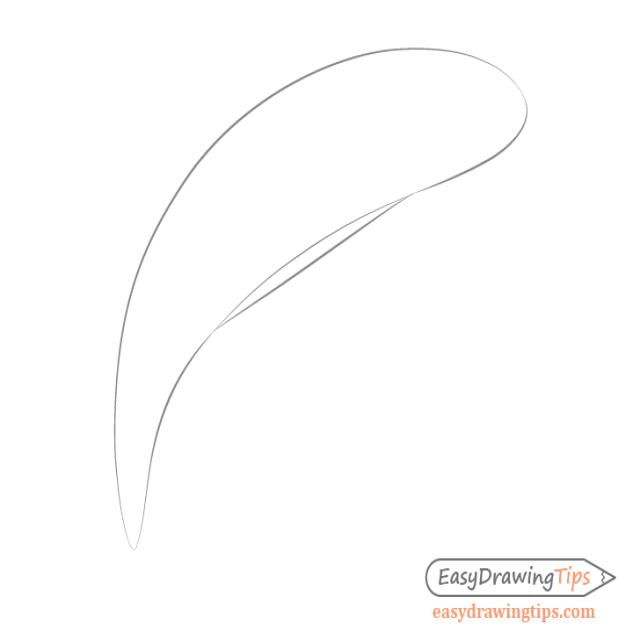hair: (106, 38, 534, 552)
